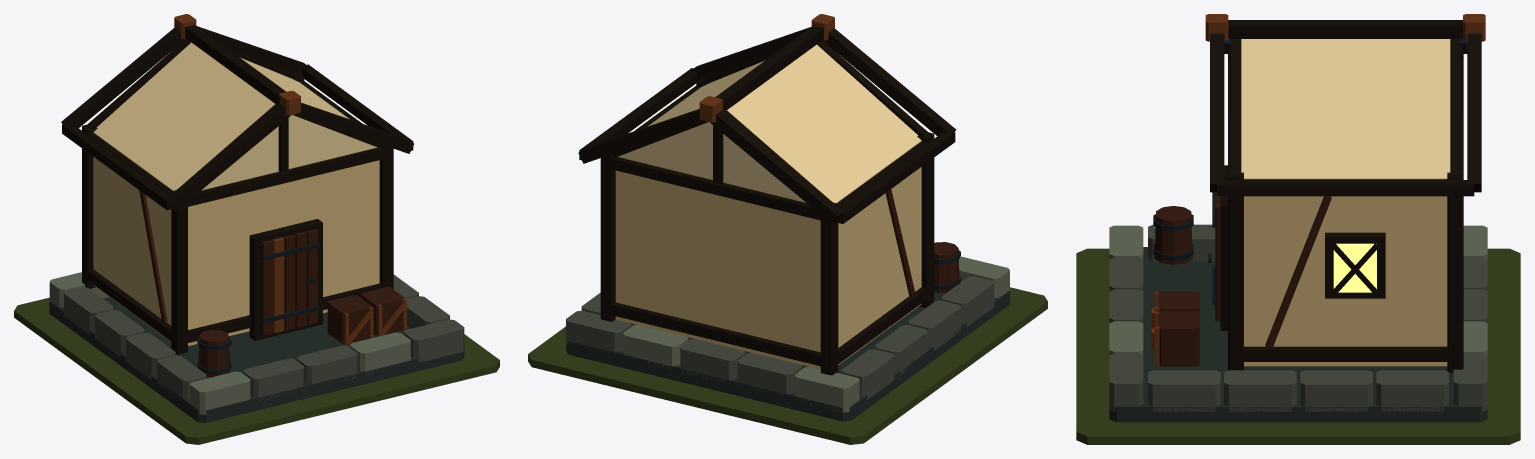
File: storehouse_t1.glb
The picture shows the model from 3 angles, left to right: view 1: azimuth 30°, elevation 25°; view 2: azimuth 150°, elevation 25°; view 3: azimuth 270°, elevation 25°; orthographic projection. The views are drawn at different scales.
Visible parts, largest first — view 1: MMR | storehouse | T01 Architecture.001, MMR | storehouse | Tier 01 Ground.001; view 2: MMR | storehouse | T01 Architecture.001, MMR | storehouse | Tier 01 Ground.001; view 3: MMR | storehouse | T01 Architecture.001, MMR | storehouse | Tier 01 Ground.001.
Part boxes in pixels (<box>): MMR | storehouse | T01 Architecture.001: <box>49,14,464,422</box>; MMR | storehouse | Tier 01 Ground.001: <box>14,297,499,444</box>; MMR | storehouse | T01 Architecture.001: <box>566,14,1009,421</box>; MMR | storehouse | Tier 01 Ground.001: <box>528,287,1047,444</box>; MMR | storehouse | T01 Architecture.001: <box>1109,14,1487,422</box>; MMR | storehouse | Tier 01 Ground.001: <box>1076,248,1520,444</box>.
Size of the model in its own units: 2.35 by 1.94 by 2.35.
2 materials, 1 textured.
